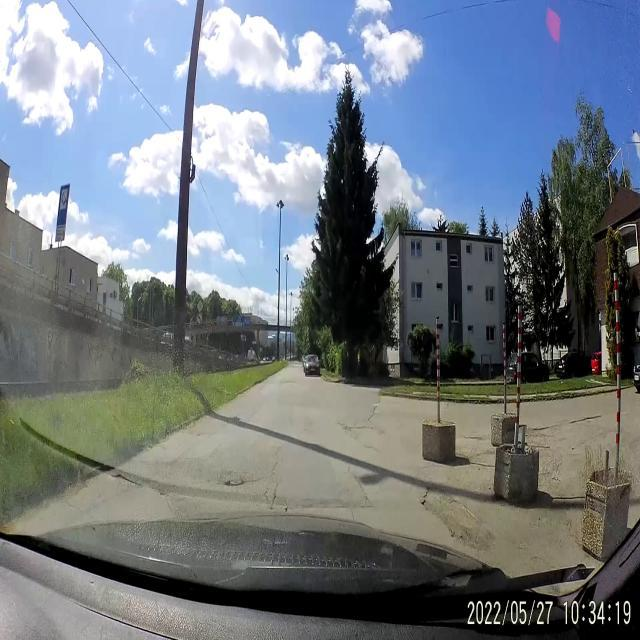Pothole: (422, 481, 496, 554), (110, 470, 140, 490), (341, 418, 374, 434), (222, 471, 248, 490), (372, 402, 379, 418)
